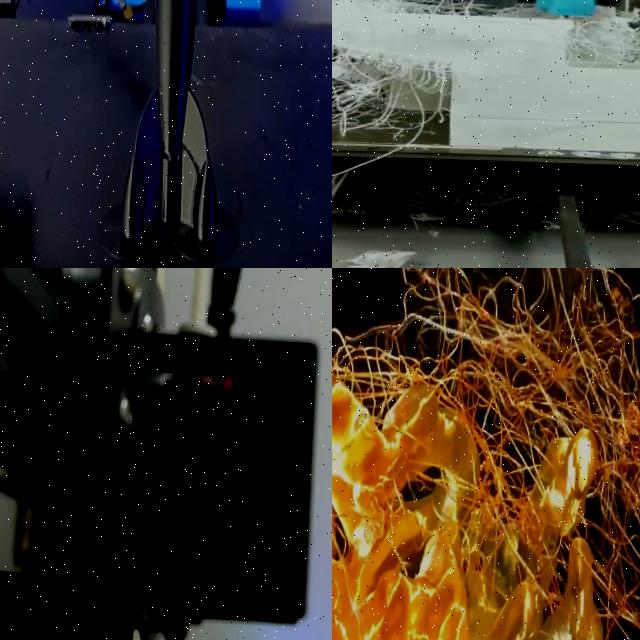spaghetti: (332, 268, 640, 640), (332, 0, 640, 156), (366, 179, 640, 266), (344, 238, 441, 268)
